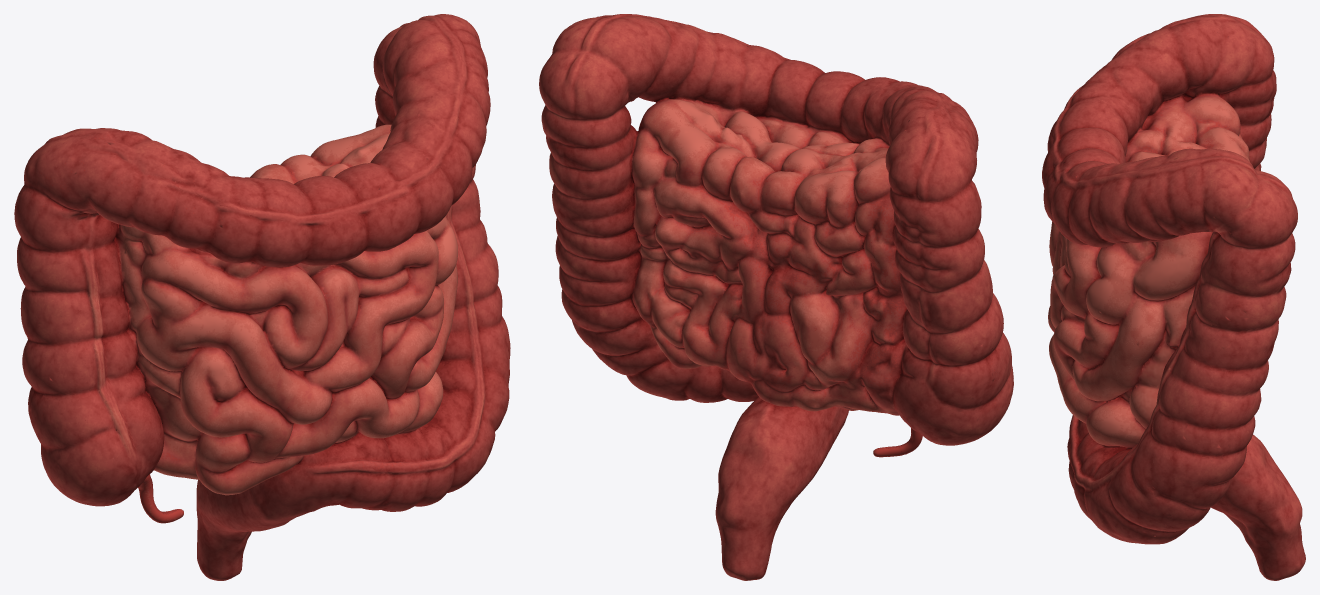
The model's file is Intestinos.glb.
3 views of the same model, side by side, from view 1: azimuth 30°, elevation 25°; view 2: azimuth 150°, elevation 25°; view 3: azimuth 270°, elevation 25° (orthographic). The views are drawn at different scales.
Parts seen in each view (by area): view 1: world; view 2: world; view 3: world.
Boxes of the visible parts, left/top/right/bottom form: world: left=14, top=14, right=510, bottom=580; world: left=539, top=14, right=1013, bottom=580; world: left=1042, top=14, right=1305, bottom=580.
Size of the model in its own units: 0.9111 by 1 by 0.4724.
1 material, 1 textured.
